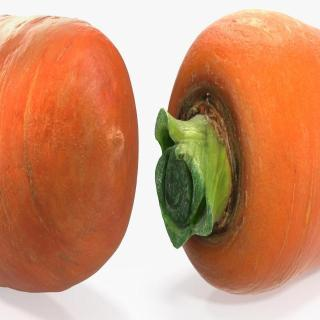carrot: (153, 8, 320, 292)
